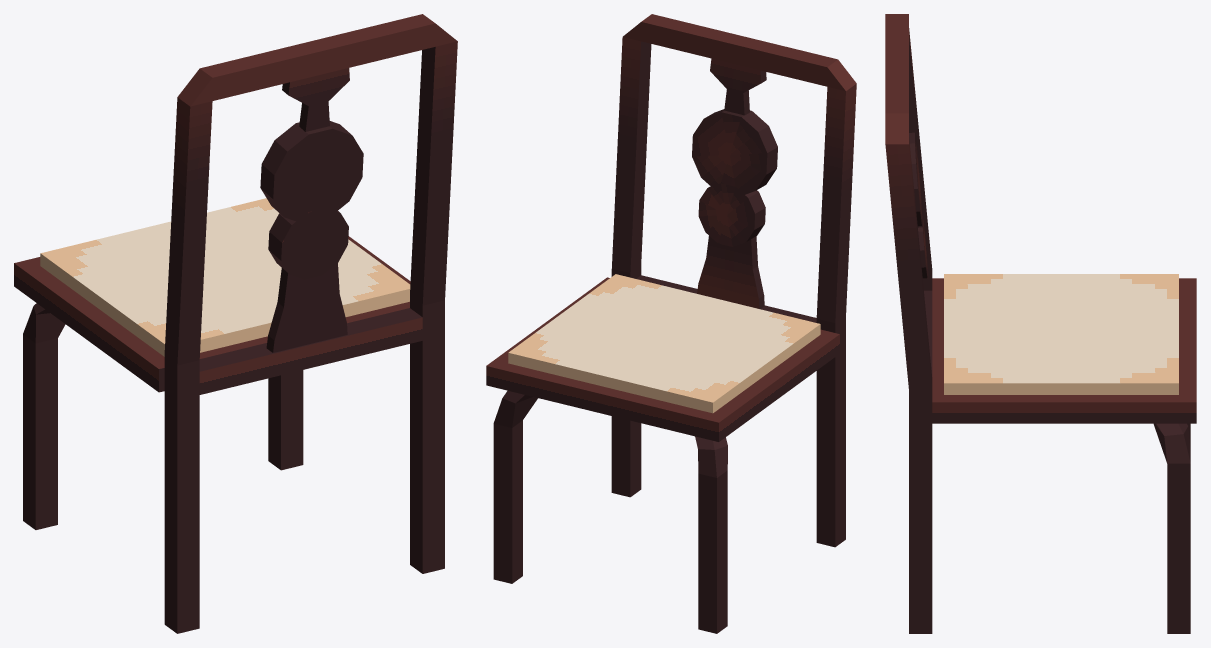
File: old_chair.gltf
3 views of the same model, side by side, from view 1: azimuth 30°, elevation 25°; view 2: azimuth 150°, elevation 25°; view 3: azimuth 270°, elevation 25° (orthographic). The views are drawn at different scales.
Parts seen in each view (by area): view 1: cube; view 2: cube; view 3: cube.
Part boxes in pixels (left/top/right/bottom): cube: left=14, top=14, right=457, bottom=633; cube: left=486, top=14, right=856, bottom=633; cube: left=885, top=14, right=1196, bottom=633.
Size of the model in its own units: 0.7812 by 1.5 by 0.8281.
Materials: 1 (1 with a texture image).
